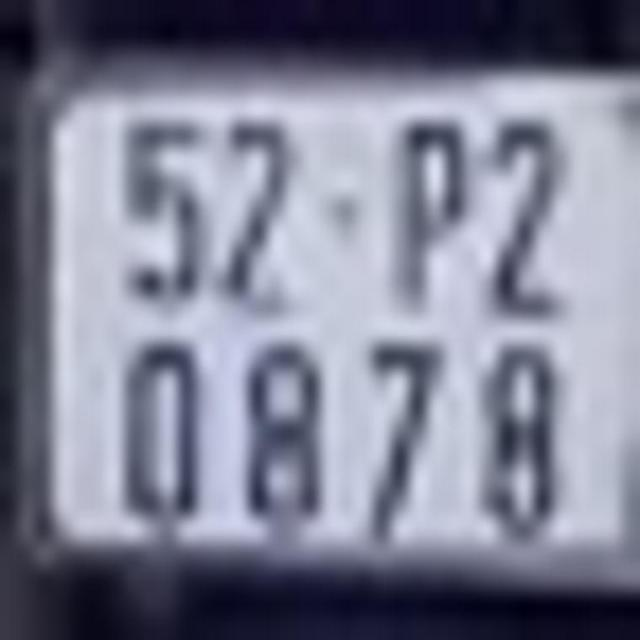0: (107, 325, 208, 530)
2: (480, 108, 574, 316), (220, 108, 312, 314)
5: (115, 113, 208, 306)
7: (355, 336, 448, 538)
8: (248, 335, 326, 540), (483, 336, 554, 544)
P: (380, 103, 471, 322)
